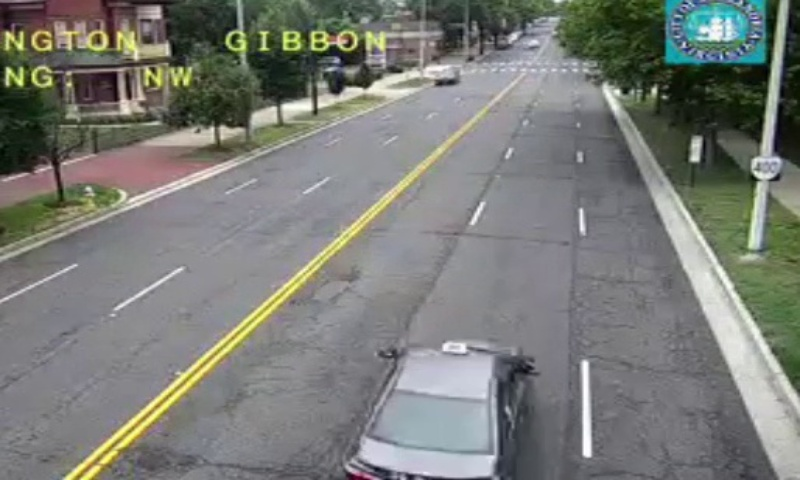car: (342, 338, 529, 480)
